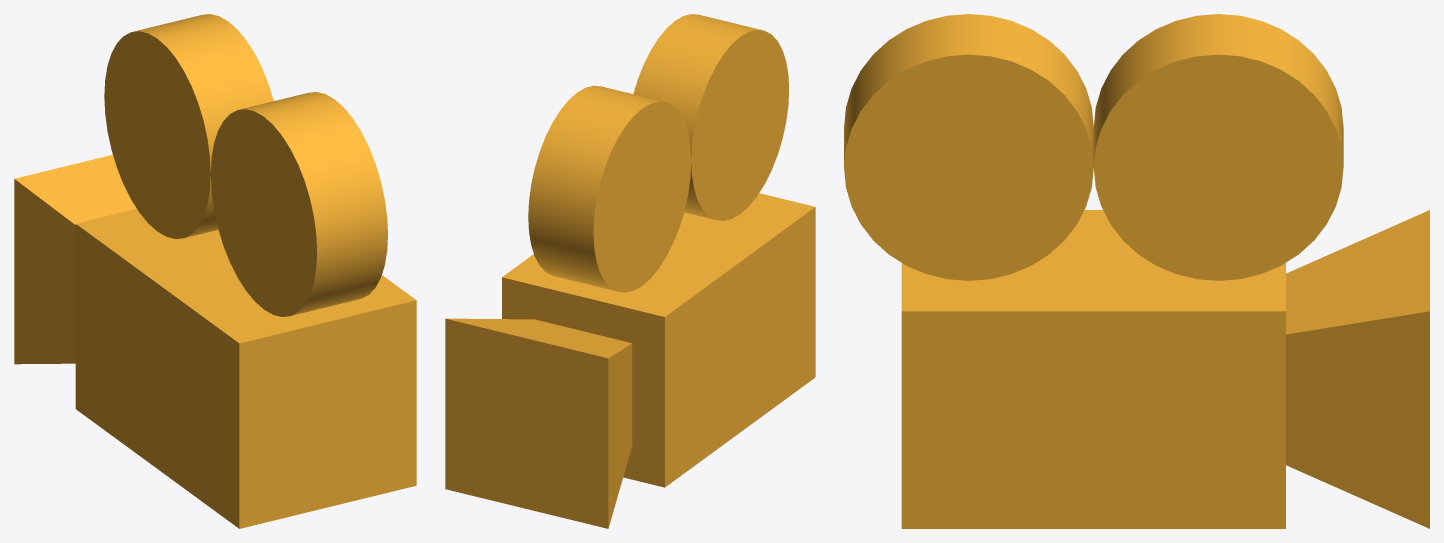
File: cameraObject.fbx
3 renders of one model, left to right at view 1: azimuth 30°, elevation 25°; view 2: azimuth 150°, elevation 25°; view 3: azimuth 270°, elevation 25°, orthographic. The views are drawn at different scales.
Visible parts, largest first — view 1: Kamera; view 2: Kamera; view 3: Kamera.
Part boxes in pixels (x1=…): Kamera: x1=14, y1=14, x2=416, y2=528; Kamera: x1=445, y1=14, x2=815, y2=528; Kamera: x1=844, y1=14, x2=1429, y2=528.
Bounding box in the file's own units: 25 × 51 × 61.
